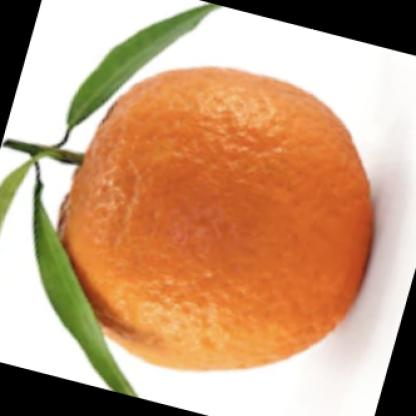fresh: (44, 68, 375, 378)
